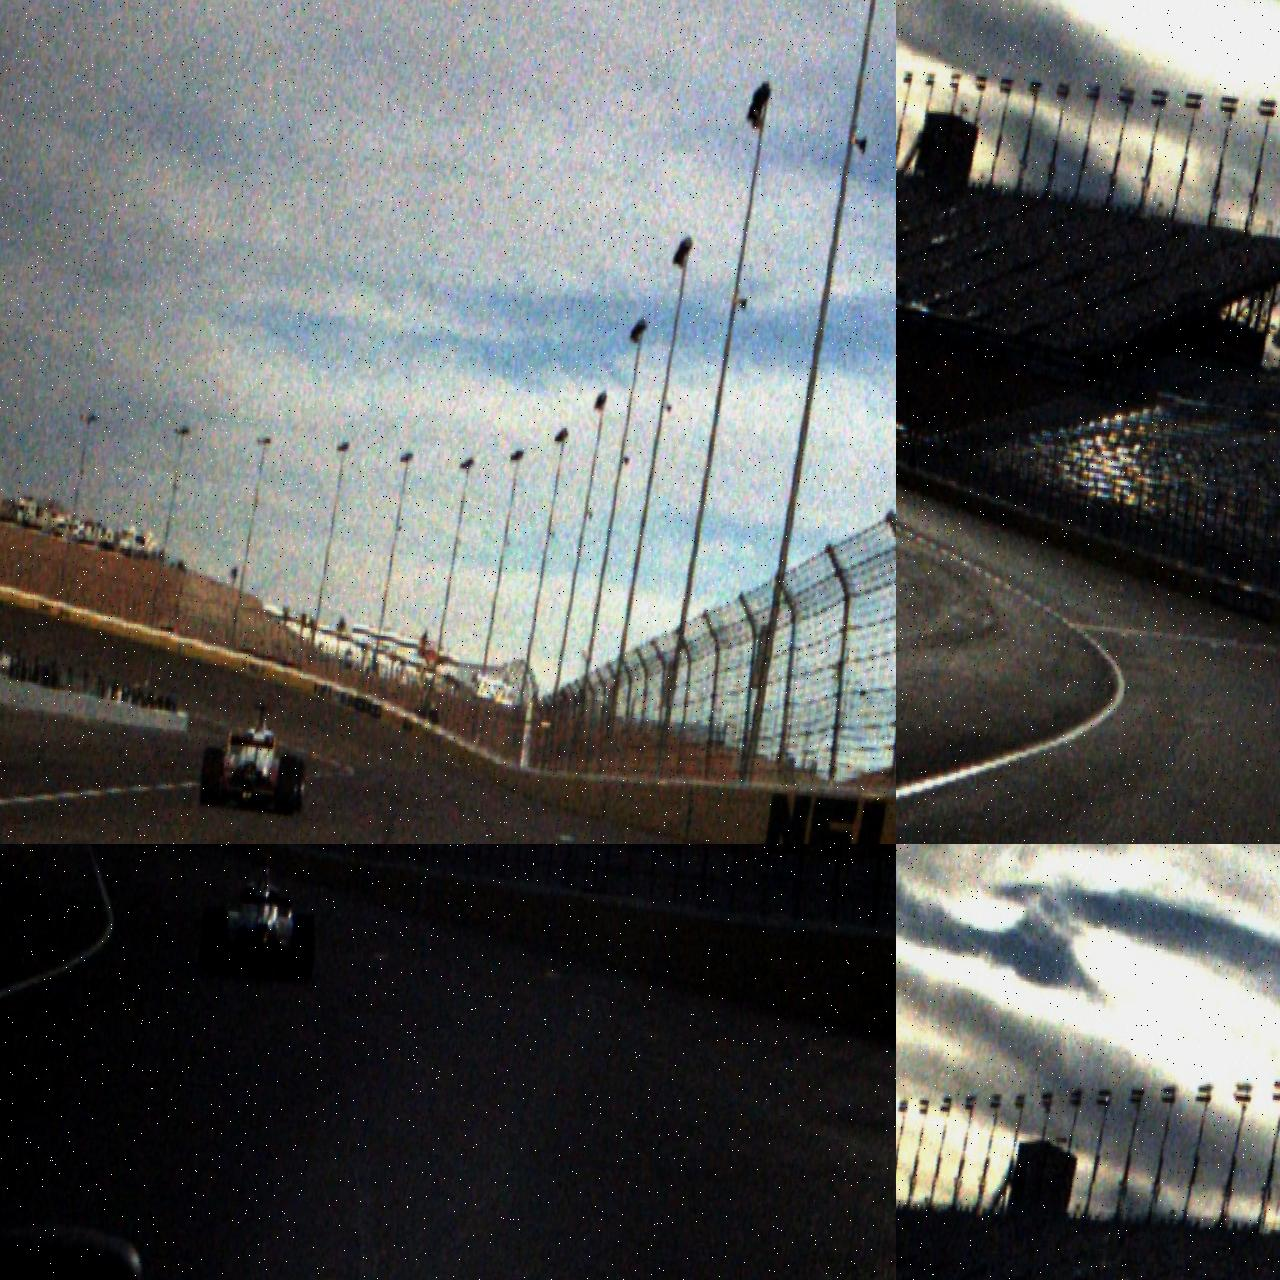AV: (197, 853, 322, 982), (197, 697, 313, 819)
Wheel: (197, 907, 229, 974), (287, 912, 316, 981), (198, 747, 226, 808), (273, 755, 300, 817)
